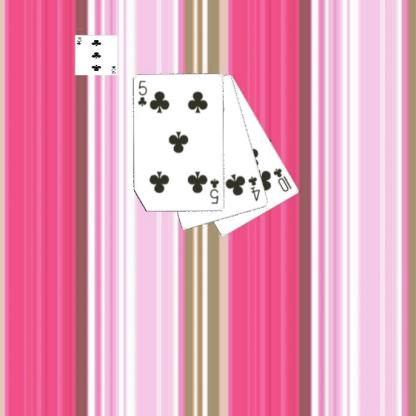10C: (270, 166, 293, 194)
4C: (245, 174, 262, 202)
5C: (135, 78, 149, 108), (208, 176, 220, 206)
